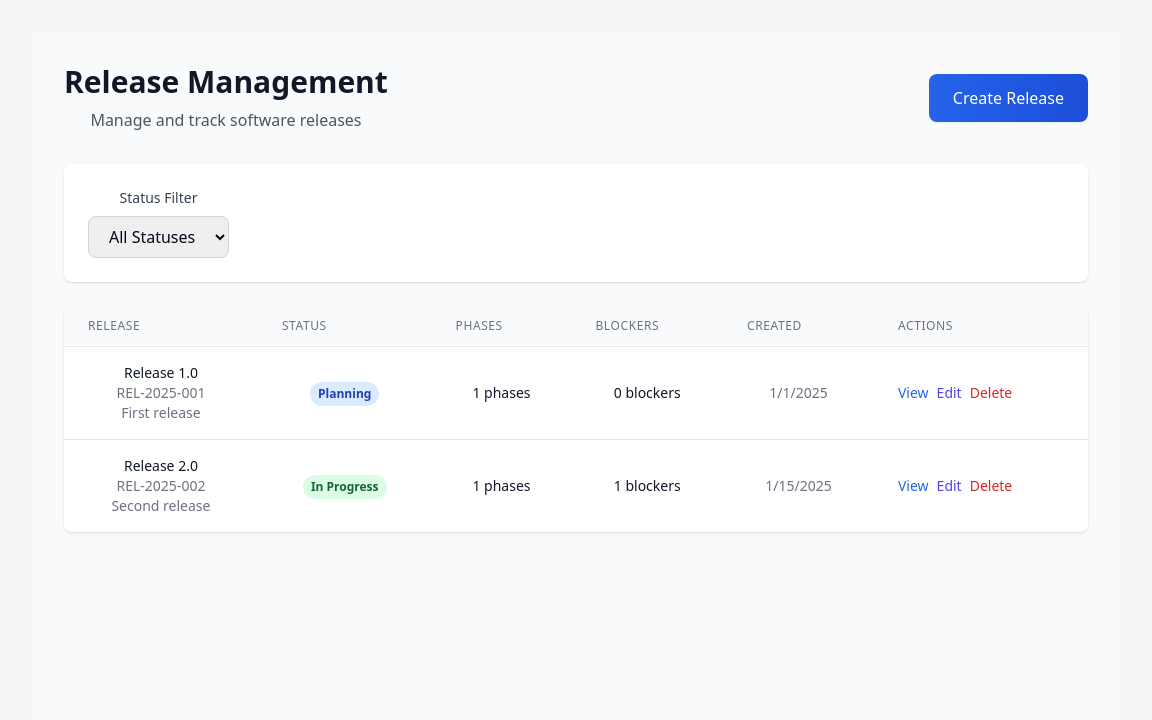
Scenario: ReleaseListPage › Actions › should display error when delete fails
This screenshot has width=1152, height=720.
Click the button "Delete" in the row of "REL-2025-001".
click(991, 393)  # box top-left (970, 383), bottom-right (1012, 403)
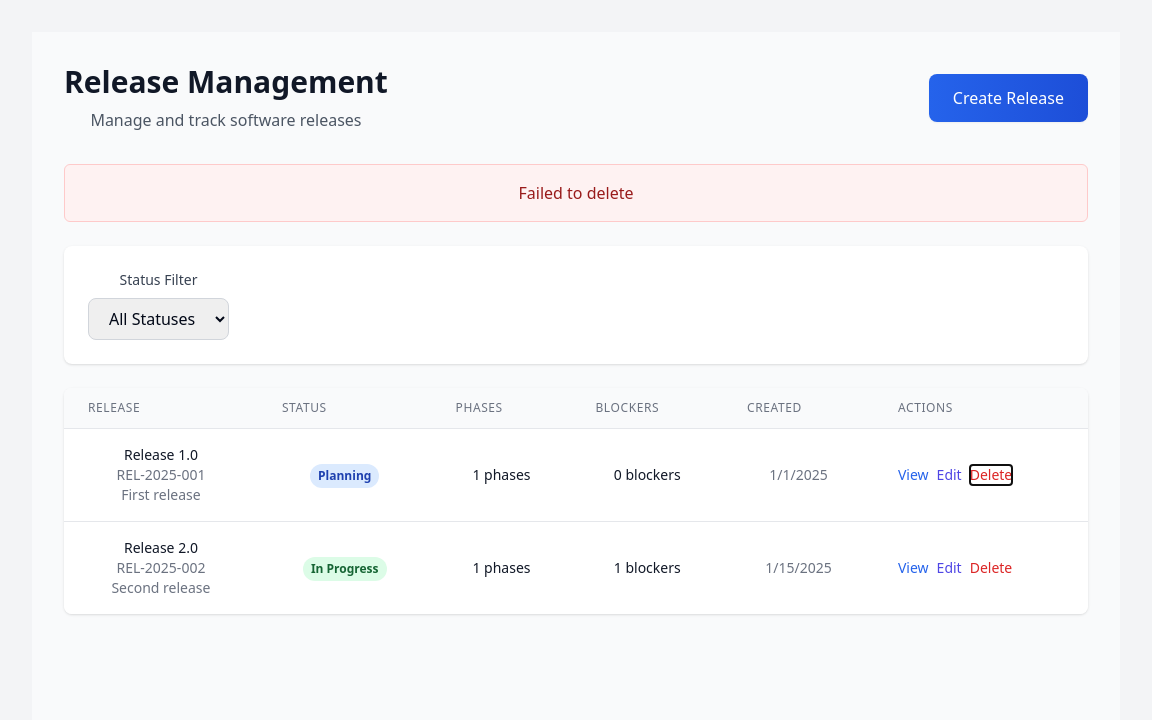
Check: the text "Failed to delete" is shown, box top-left (518, 182), bottom-right (634, 204)
